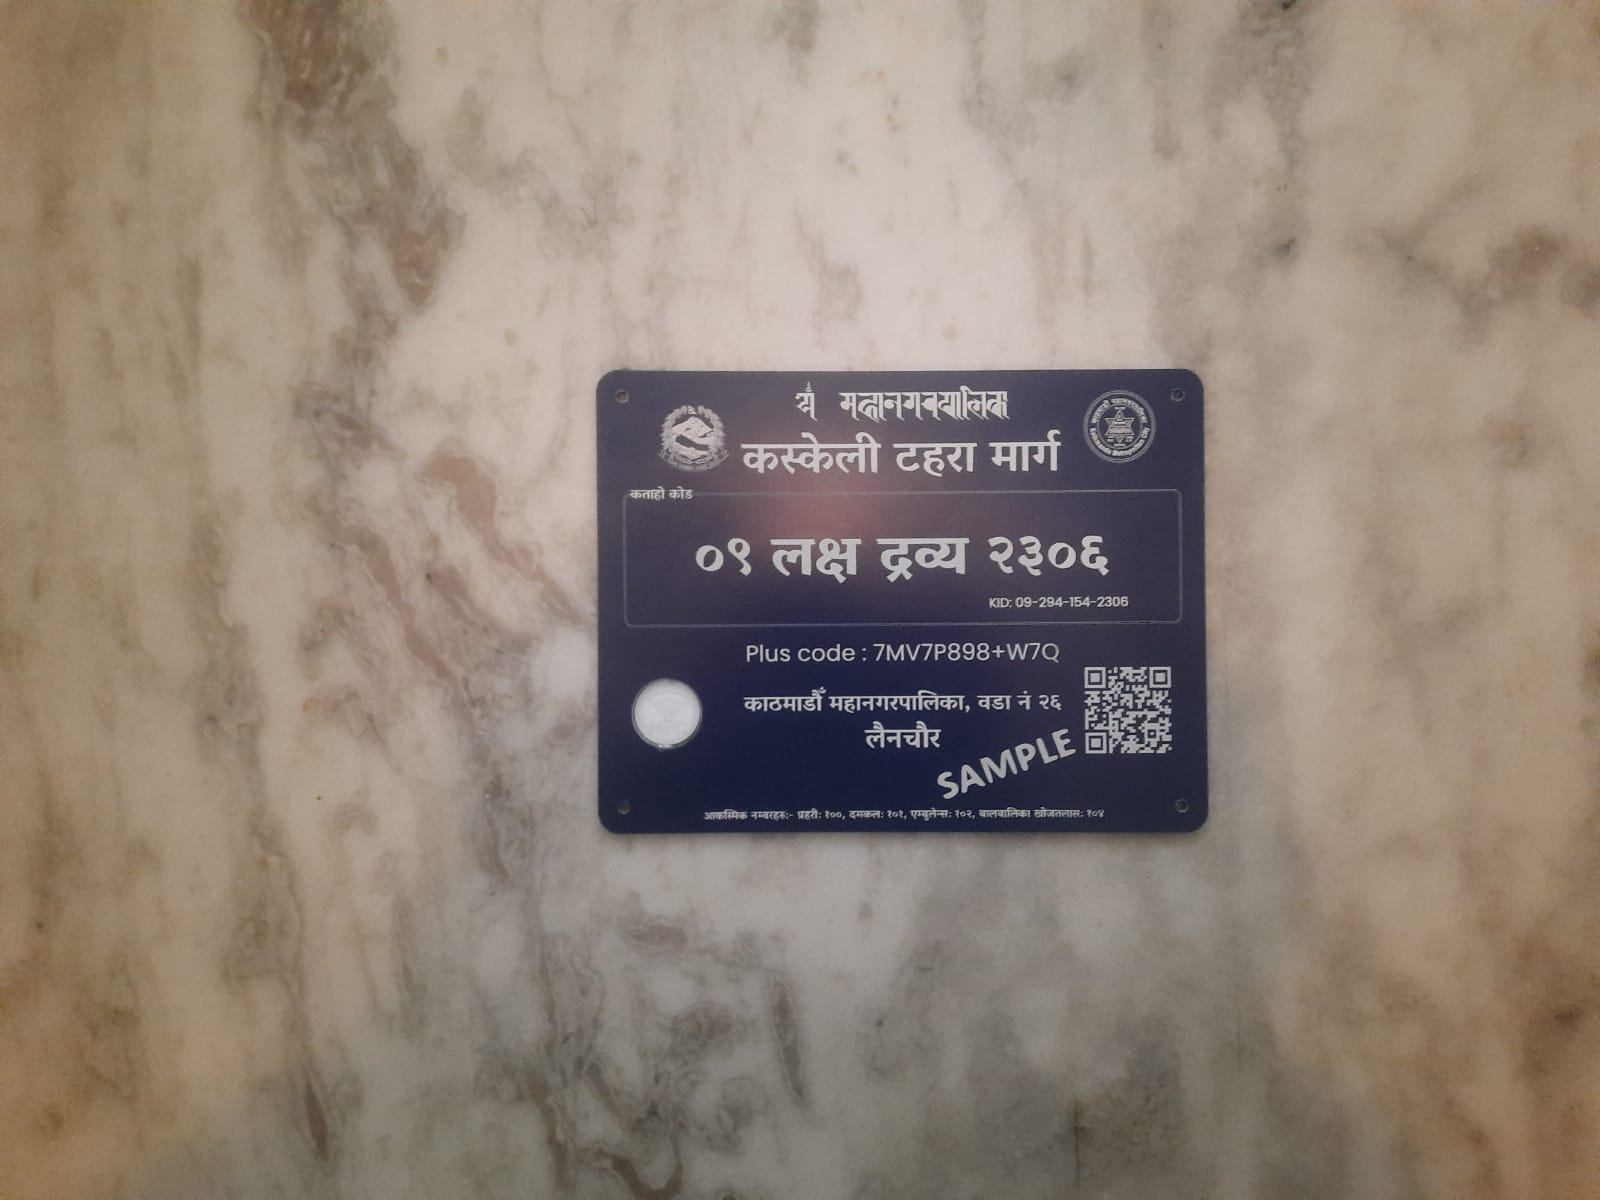Plate: (595, 366, 1214, 840)
